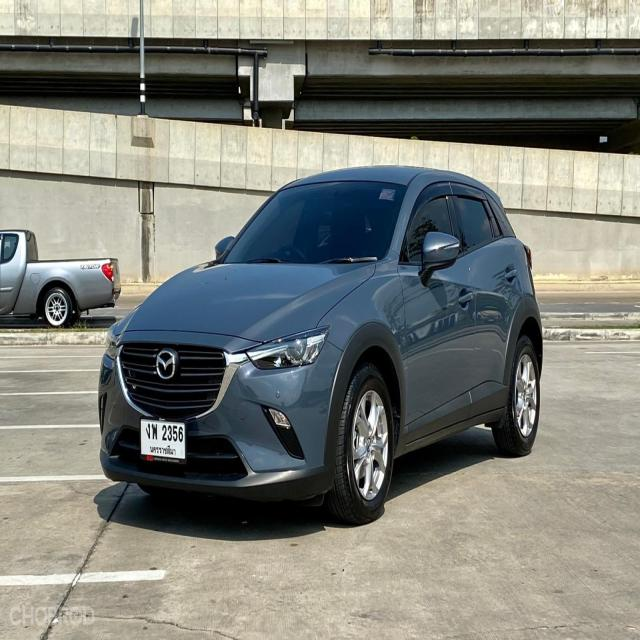license_plate: (139, 418, 188, 467)
